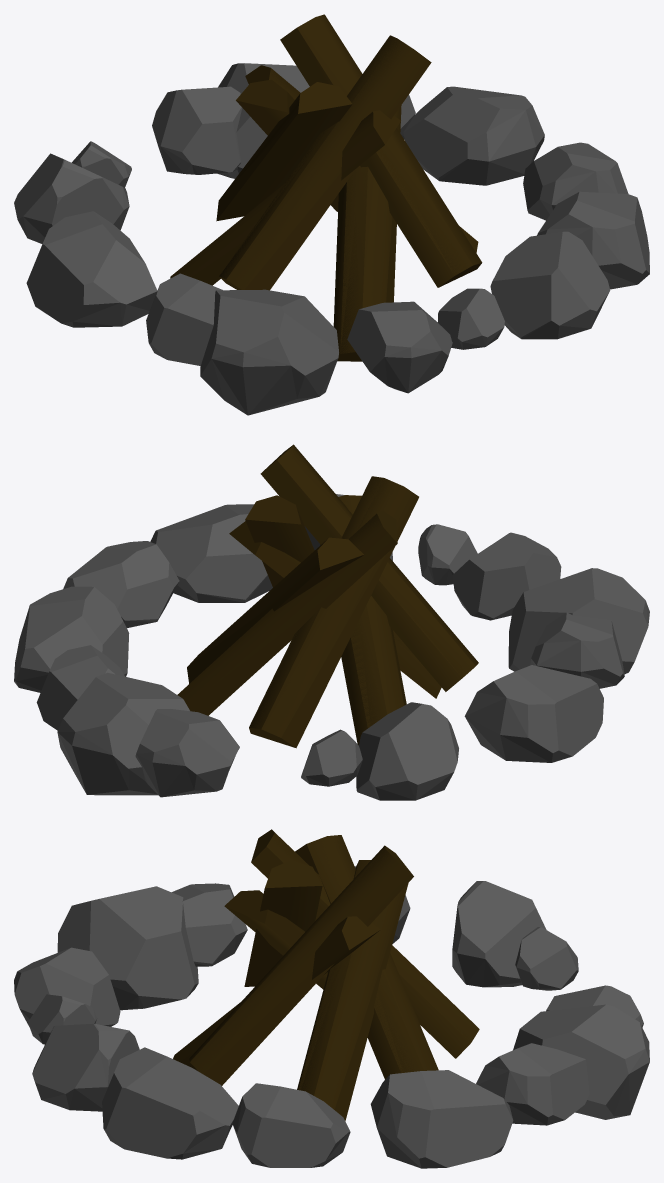
Rendered from fireplace.fbx.
The picture shows the model from 3 angles, top to bottom: view 1: azimuth 30°, elevation 25°; view 2: azimuth 150°, elevation 25°; view 3: azimuth 270°, elevation 25°; orthographic projection. The views are drawn at different scales.
Visible parts, largest first — view 1: stone_5, wood_5, wood_3, stone_4, stone, stone_13, wood_4, stone_9, stone_12, wood_7, stone_7, stone_10 (+8 smaller); view 2: wood_7, stone_4, wood_5, stone_2, wood, stone_10, stone_7, stone_5, stone, stone_9, stone_12, wood_6 (+8 smaller); view 3: stone_5, stone_7, wood_3, stone, wood_2, stone_2, stone_14, stone_10, wood, stone_8, stone_13, wood_7 (+8 smaller).
Part boxes in pixels (x1,y1,x2,y2): stone_5: (200,289,338,415); wood_5: (219,35,431,290); wood_3: (280,14,482,287); stone_4: (26,211,157,327); stone: (403,86,544,185); stone_13: (490,231,610,339); wood_4: (333,105,401,361); stone_9: (152,86,242,174); stone_12: (347,301,452,393); wood_7: (216,82,352,221); stone_7: (537,191,649,289); stone_10: (14,153,129,243); wood_7: (249,476,418,748); stone_4: (464,665,603,762); wood_5: (260,444,478,691); stone_2: (57,672,189,795); wood: (177,510,397,715); stone_10: (356,702,458,800); stone_7: (150,504,272,602); stone_5: (508,568,649,674); stone: (14,586,129,692); stone_9: (135,709,239,797); stone_12: (452,532,561,620); wood_6: (320,495,406,745); stone_5: (57,886,198,1010); stone_7: (102,1047,238,1159); wood_3: (189,845,413,1085); stone: (370,1070,513,1168); wood_2: (297,860,408,1120); stone_2: (513,1004,649,1119); stone_14: (232,1083,350,1167); stone_10: (452,881,546,987); wood: (295,835,438,1079); stone_8: (476,1043,589,1125); stone_13: (32,1023,139,1111); wood_7: (251,829,479,1058).
Size of the model in its own units: 181 by 84.19 by 187.
